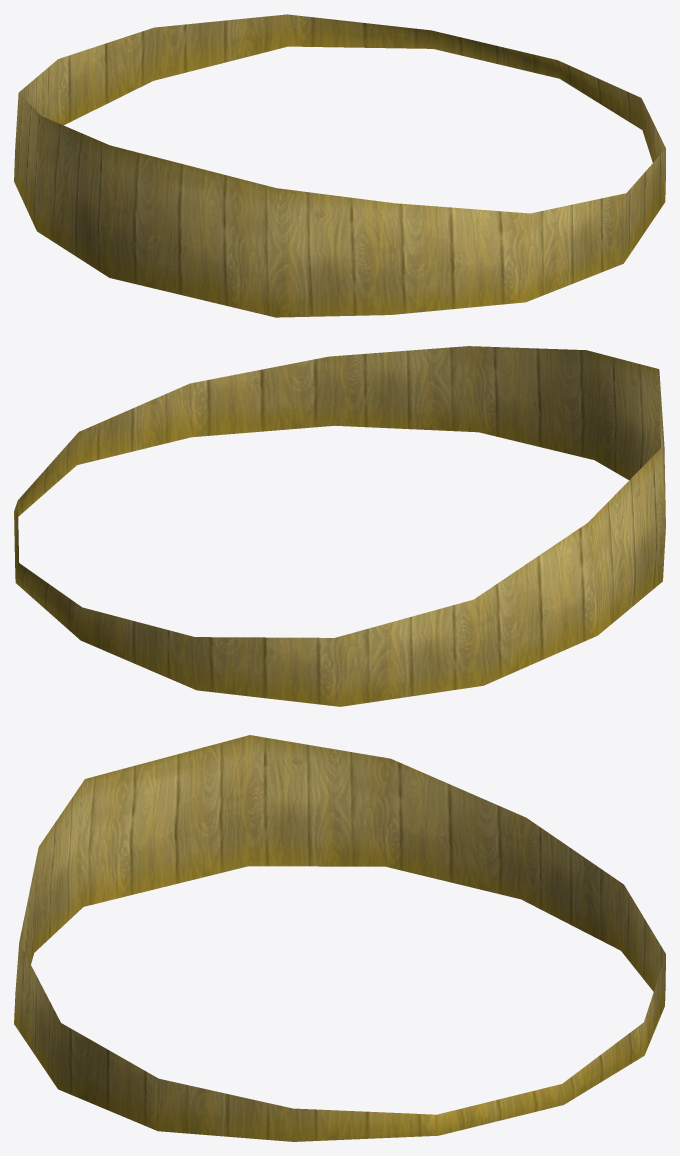
The model's file is HTOWN01_HANNA-WALLS01.fbx.
3 renders of one model, top to bottom at view 1: azimuth 30°, elevation 25°; view 2: azimuth 150°, elevation 25°; view 3: azimuth 270°, elevation 25°, orthographic.
Visible parts, largest first — view 1: HTOWN01_HANNA-WALLS01; view 2: HTOWN01_HANNA-WALLS01; view 3: HTOWN01_HANNA-WALLS01.
Part boxes in pixels (left/top/right/bottom): HTOWN01_HANNA-WALLS01: left=14, top=14, right=665, bottom=317; HTOWN01_HANNA-WALLS01: left=14, top=346, right=665, bottom=706; HTOWN01_HANNA-WALLS01: left=14, top=735, right=665, bottom=1141.
Size of the model in its own units: 67138 by 17374 by 67616.
Materials: 1 (1 with a texture image).
